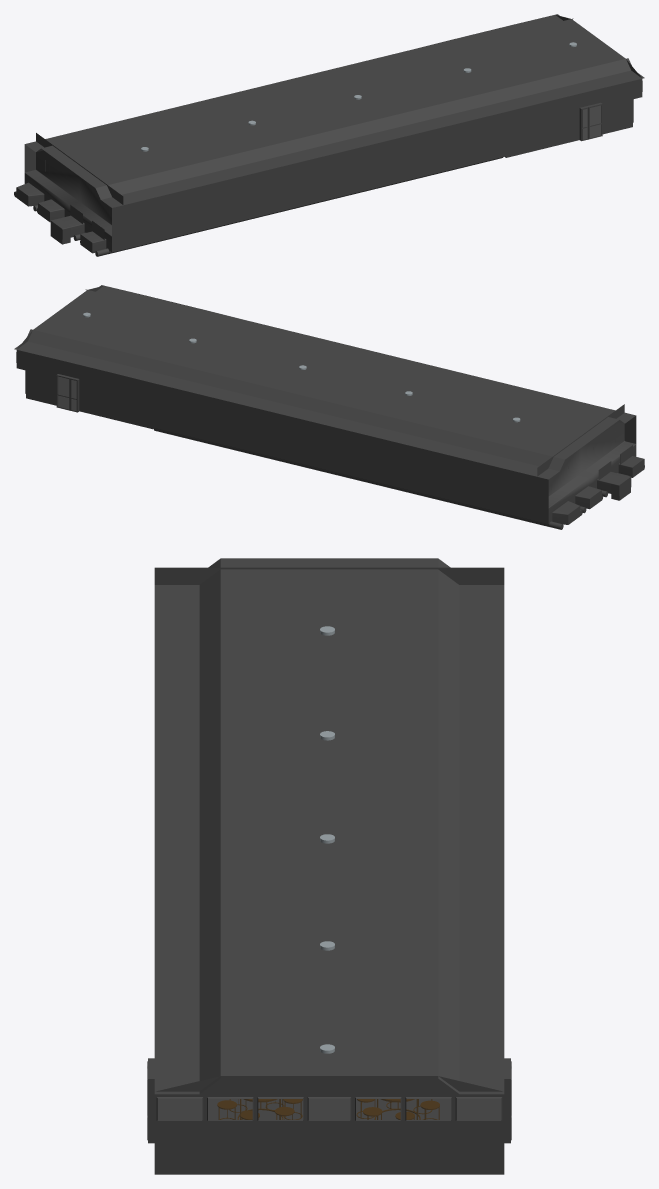
The model's file is VR_Bowling_building.glb.
The picture shows the model from 3 angles, top to bottom: view 1: azimuth 30°, elevation 25°; view 2: azimuth 150°, elevation 25°; view 3: azimuth 270°, elevation 25°; orthographic projection. The views are drawn at different scales.
Visible parts, largest first — view 1: Bowling_buildings; view 2: Bowling_buildings; view 3: Bowling_buildings.
Part boxes in pixels (<box>): Bowling_buildings: <box>14,14,644,256</box>; Bowling_buildings: <box>14,285,644,529</box>; Bowling_buildings: <box>147,558,511,1174</box>.
Size of the model in its own units: 122 by 12.69 by 34.62.
7 materials, 2 textured.
